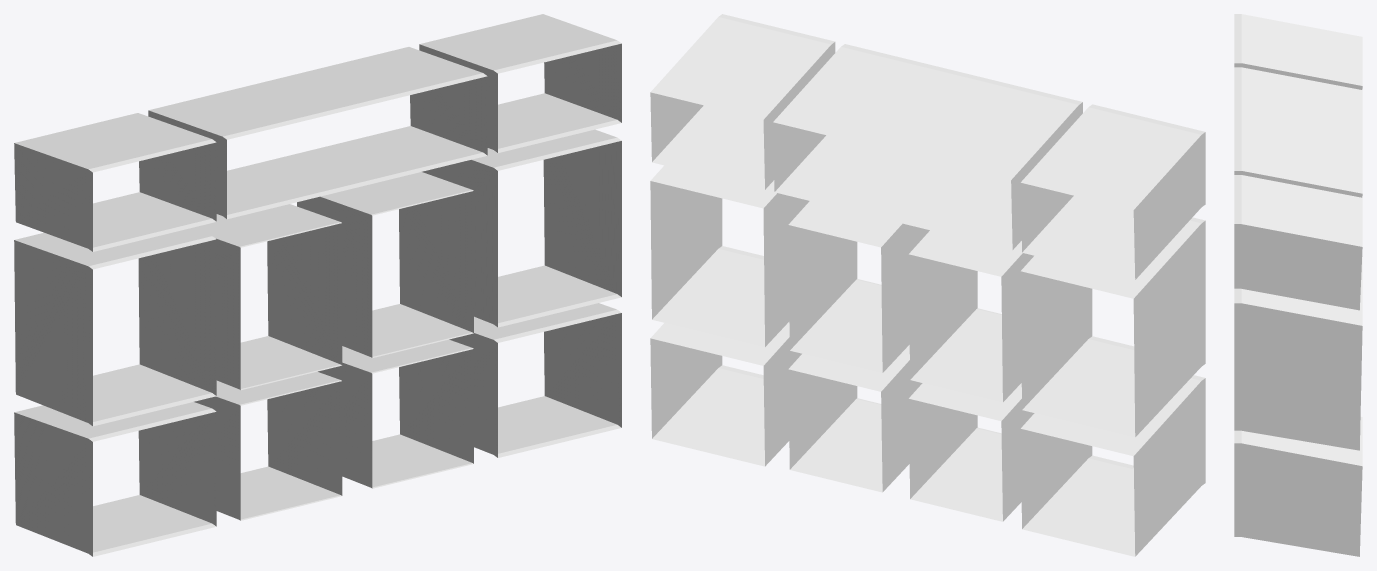
File: set_add_effect_door_a.fbx
The picture shows the model from 3 angles, left to right: view 1: azimuth 30°, elevation 25°; view 2: azimuth 150°, elevation 25°; view 3: azimuth 270°, elevation 25°; orthographic projection. The views are drawn at different scales.
Parts seen in each view (by area): view 1: door_a_window_add_effect, door_a_02_add_effect, door_a_01_add_effect; view 2: door_a_window_add_effect, door_a_02_add_effect, door_a_01_add_effect; view 3: door_a_window_add_effect.
Part boxes in pixels (x1,y1,x2,y2): door_a_window_add_effect: (14, 14, 621, 556); door_a_02_add_effect: (297, 172, 473, 488); door_a_01_add_effect: (191, 204, 342, 520); door_a_window_add_effect: (650, 14, 1205, 556); door_a_02_add_effect: (788, 201, 929, 492); door_a_01_add_effect: (908, 230, 1034, 521); door_a_window_add_effect: (1234, 14, 1362, 556).
Size of the model in its own units: 386 by 285 by 99.64.
